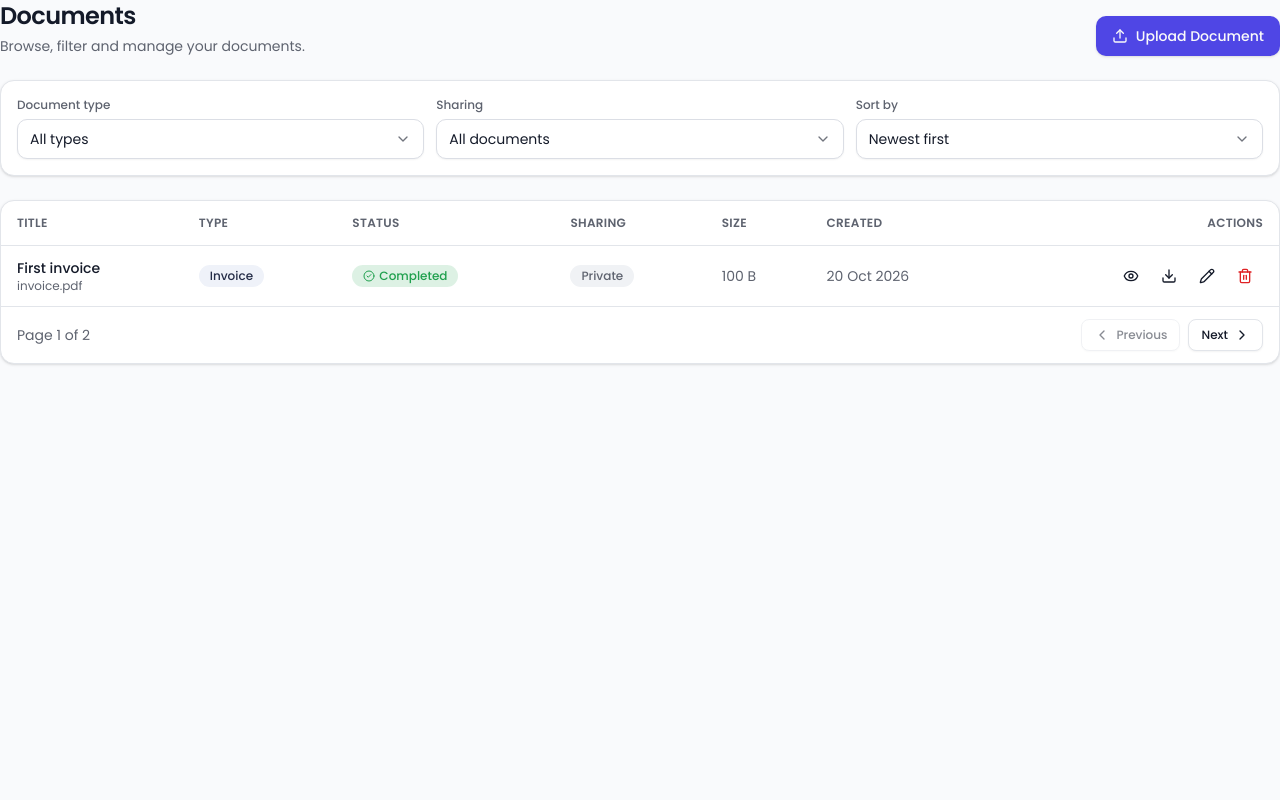
Test: deleting the last document on the final page returns to a valid page
Expected: the link "First invoice" is shown, [17,258,100,278]
Click the button "Next" at (1226,334), box [1188,318,1263,350]
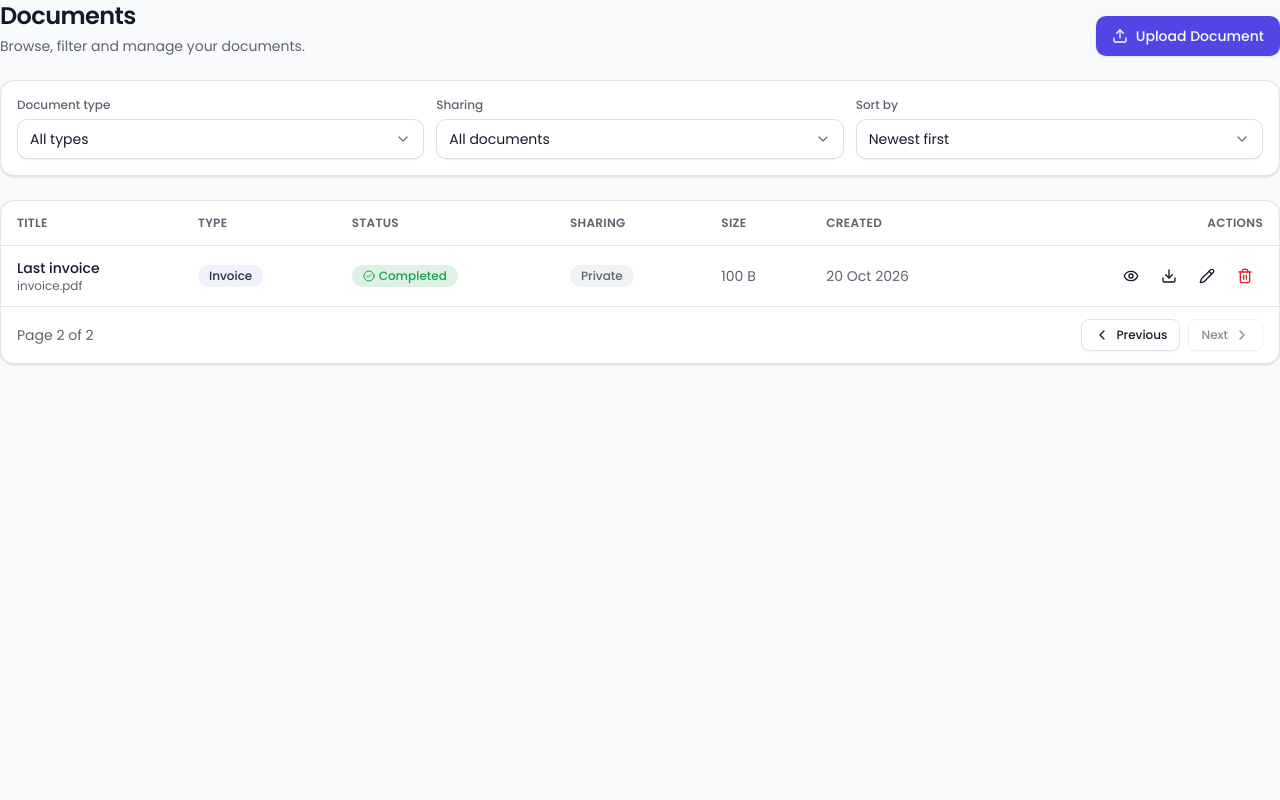
Expected: the link "Last invoice" is shown, [17,258,100,278]
Click the button named "Delete Document" at (1245,276), box [1227,258,1263,294]
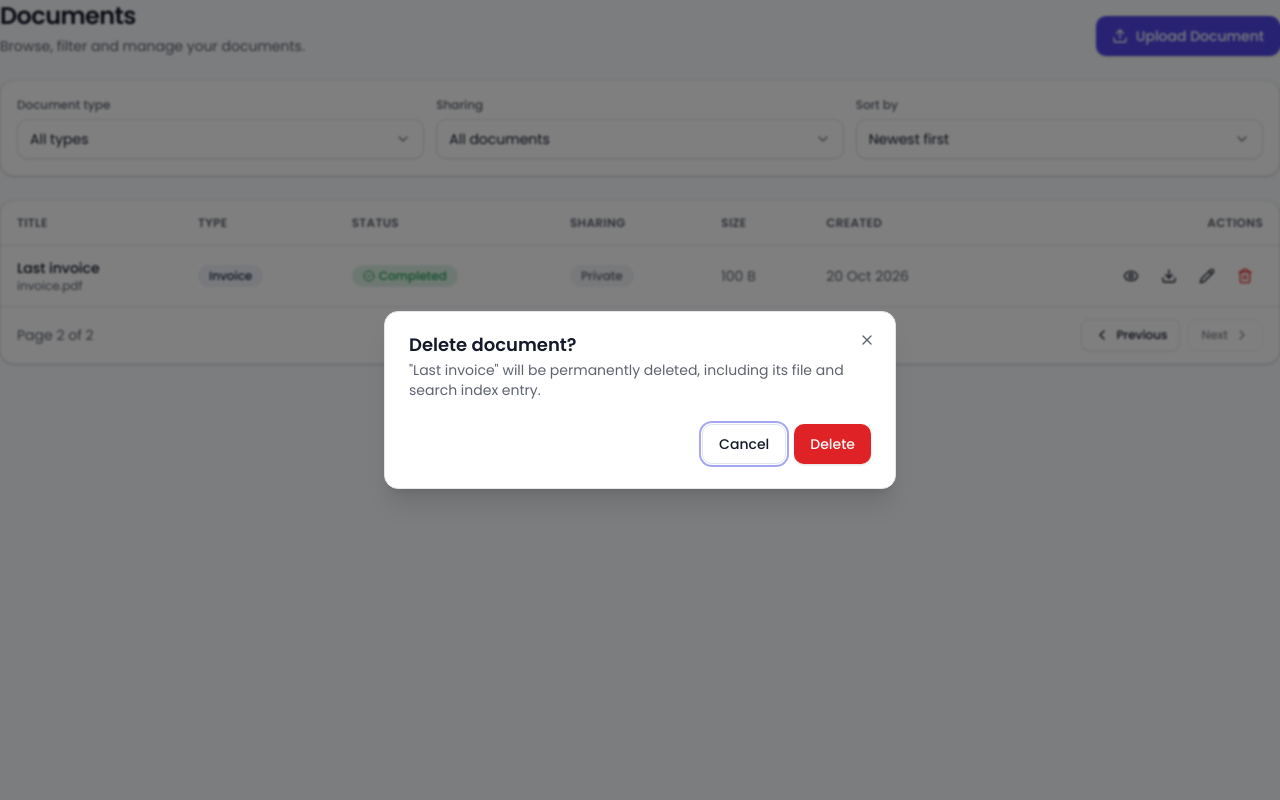
Click the button "Delete" at (833,444), box [794,424,871,464]
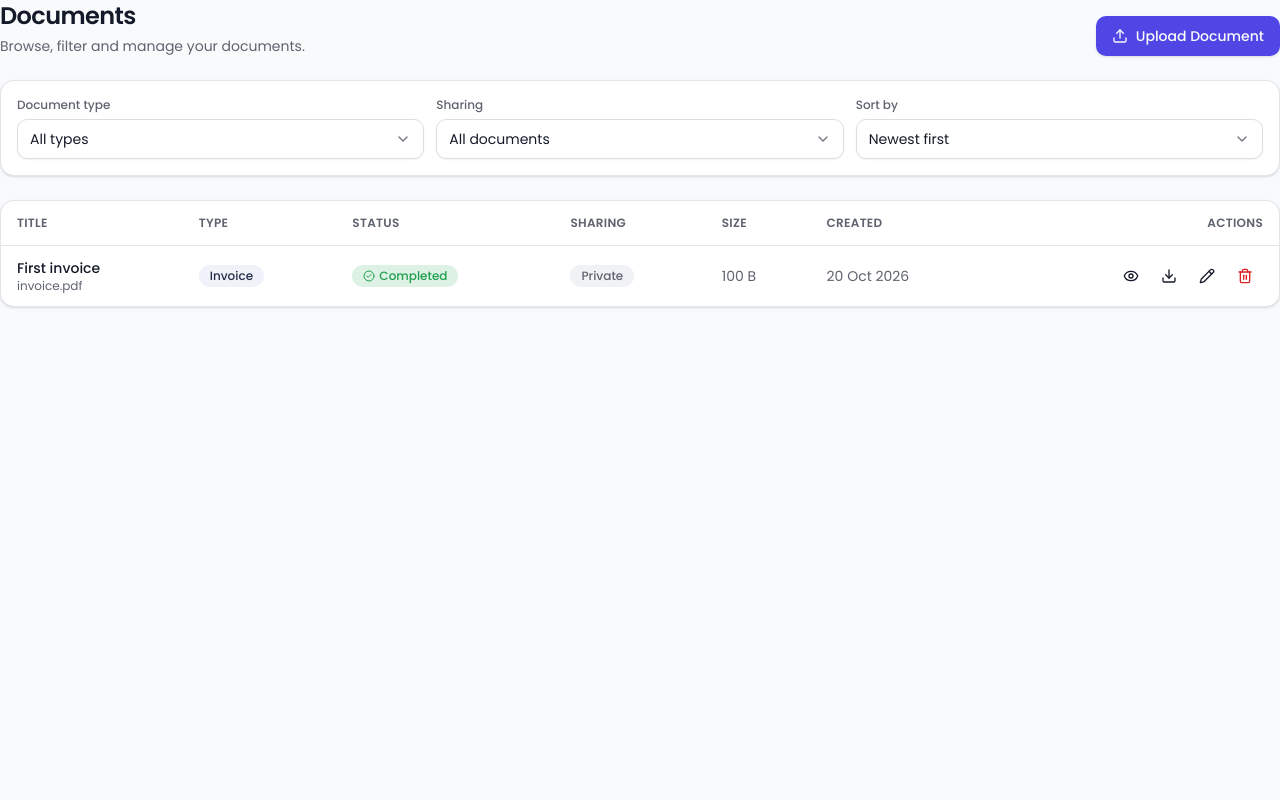
Expected: the link "First invoice" is shown, [17,258,100,278]
